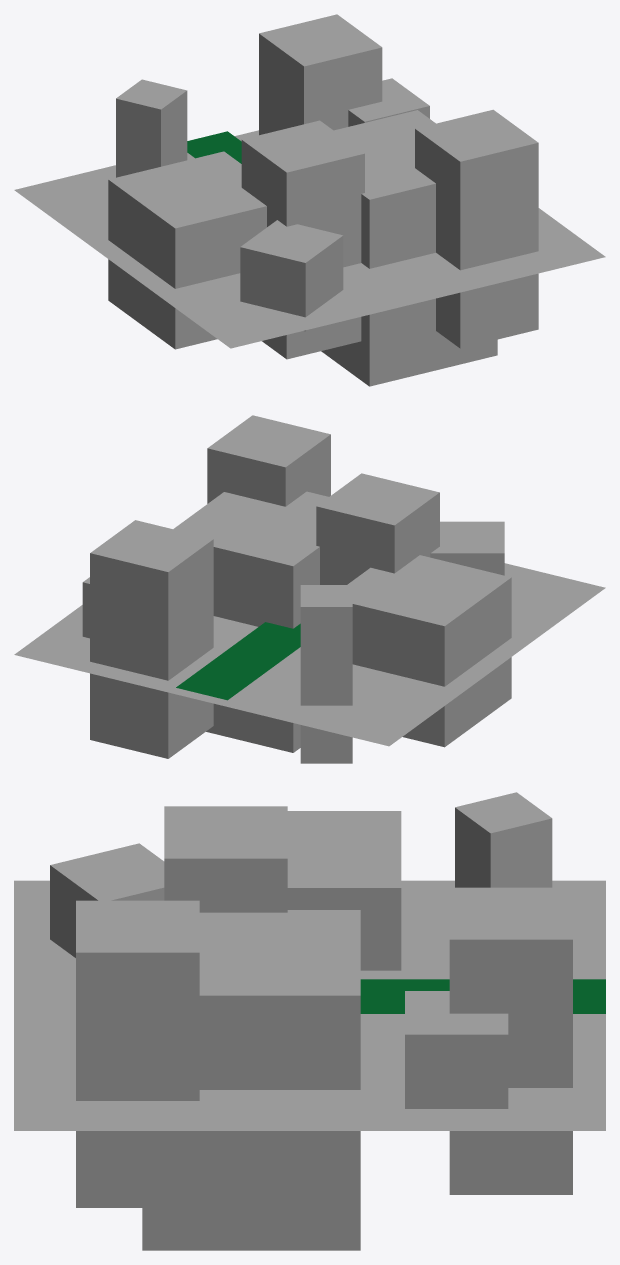
Rendered from street_end_001.fbx.
The picture shows the model from 3 angles, top to bottom: view 1: azimuth 30°, elevation 25°; view 2: azimuth 150°, elevation 25°; view 3: azimuth 270°, elevation 25°; orthographic projection. The views are drawn at different scales.
Parts seen in each view (by area): view 1: pPlane19, pCube49, pCube2, pCube45, pCube44, pCube48, pCube46, pCube47, pCube3, pPlane23; view 2: pCube48, pPlane19, pCube2, pCube45, pCube44, pCube49, pCube47, pPlane23, pCube46; view 3: pCube45, pPlane19, pCube49, pCube48, pCube2, pCube44, pCube3, pCube47, pCube46, pPlane23.
Part boxes in pixels (x1=…): pPlane19: x1=14, y1=130, x2=605, y2=348; pCube49: x1=415, y1=109, x2=538, y2=348; pCube2: x1=108, y1=151, x2=266, y2=349; pCube45: x1=321, y1=110, x2=497, y2=386; pCube44: x1=241, y1=120, x2=364, y2=359; pCube48: x1=259, y1=14, x2=382, y2=135; pCube46: x1=240, y1=220, x2=343, y2=331; pCube47: x1=116, y1=79, x2=187, y2=177; pCube3: x1=348, y1=78, x2=429, y2=126; pPlane23: x1=187, y1=131, x2=241, y2=163; pCube48: x1=90, y1=520, x2=213, y2=758; pPlane19: x1=14, y1=563, x2=605, y2=746; pCube2: x1=347, y1=555, x2=511, y2=747; pCube45: x1=173, y1=491, x2=328, y2=752; pCube44: x1=316, y1=473, x2=439, y2=584; pCube49: x1=207, y1=415, x2=330, y2=506; pCube47: x1=300, y1=585, x2=352, y2=763; pPlane23: x1=176, y1=622, x2=300, y2=700; pCube46: x1=430, y1=521, x2=504, y2=575; pCube45: x1=142, y1=910, x2=360, y2=1250; pPlane19: x1=14, y1=880, x2=605, y2=1130; pCube49: x1=76, y1=900, x2=199, y2=1207; pCube48: x1=449, y1=887, x2=572, y2=1194; pCube2: x1=287, y1=811, x2=401, y2=970; pCube44: x1=164, y1=806, x2=287, y2=912; pCube3: x1=405, y1=991, x2=508, y2=1108; pCube47: x1=455, y1=792, x2=552, y2=887; pCube46: x1=50, y1=843, x2=164, y2=957; pPlane23: x1=360, y1=979, x2=605, y2=1013.
Size of the model in its own units: 1 by 0.5762 by 1.
